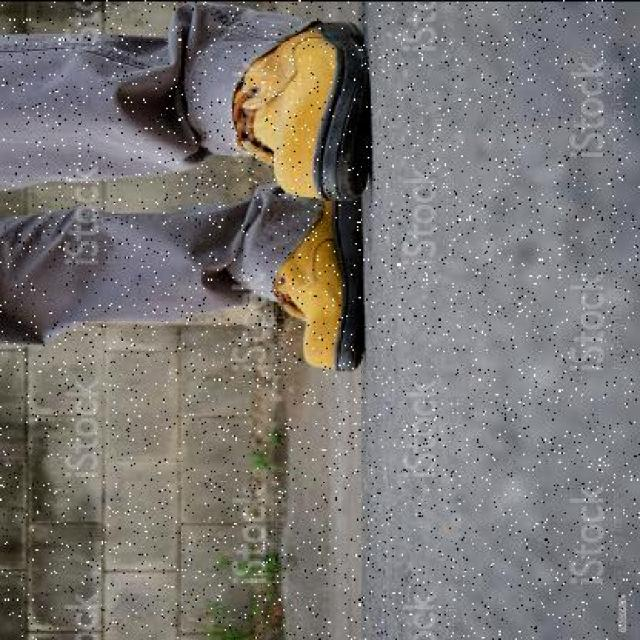shoes: (239, 18, 378, 198), (259, 193, 361, 369)
